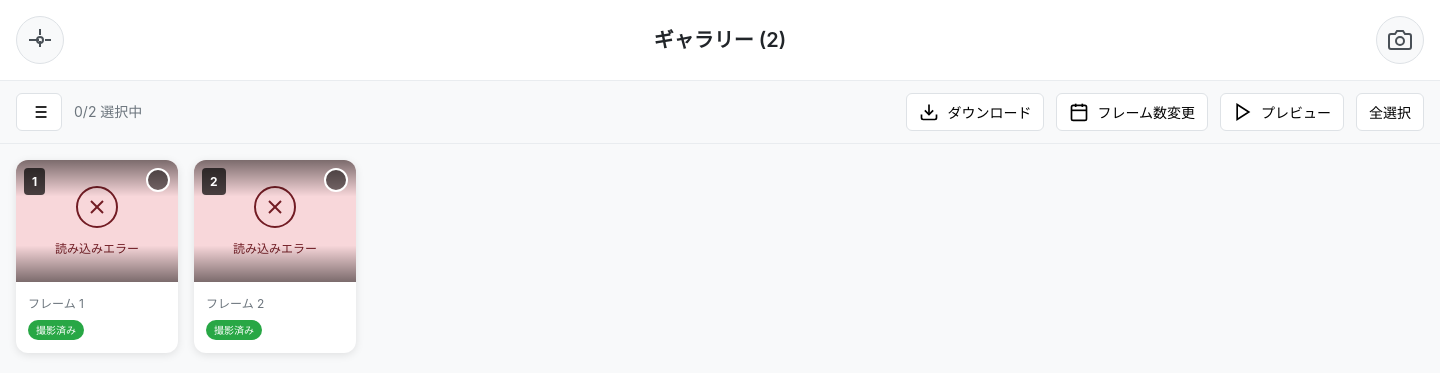
GalleryView › should toggle between grid and list view
Expected: the element with class "frames-grid" is shown, left=16, top=160, right=356, bottom=353
Note: Click view mode toggle button
Click the 1st button with class "tool-button". click: click(39, 112)
box: left=16, top=93, right=62, bottom=131
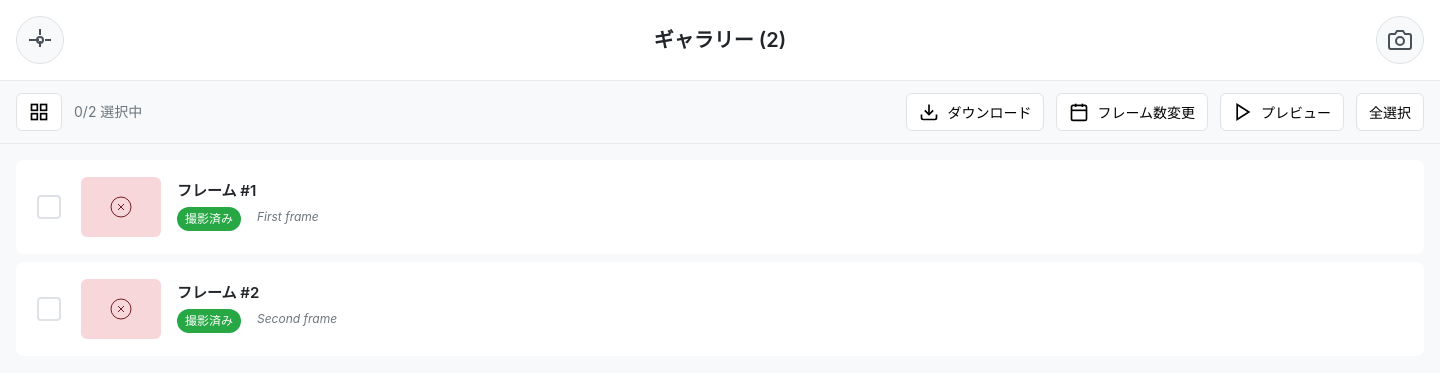
Result: the element with class "frames-list" is shown at left=16, top=160, right=1424, bottom=356
Result: the number of elements with class "frame-row" is 2 at left=16, top=160, right=1424, bottom=254; left=16, top=262, right=1424, bottom=356
